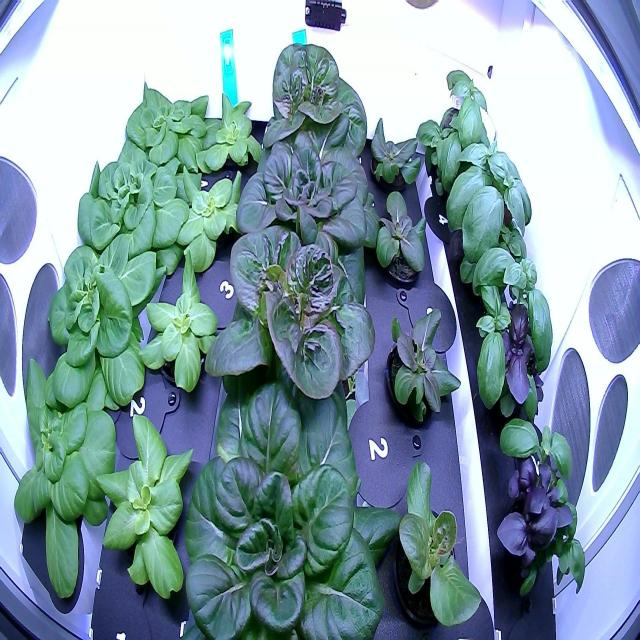young: (175, 348, 409, 640), (195, 174, 387, 415), (2, 346, 132, 608), (224, 101, 385, 282), (38, 212, 168, 428), (89, 398, 208, 614), (60, 127, 205, 296), (387, 451, 486, 640), (254, 33, 370, 186), (132, 244, 230, 402), (378, 287, 464, 449), (157, 156, 257, 280), (113, 68, 216, 186), (190, 84, 277, 188), (365, 181, 437, 299), (362, 98, 427, 200)
